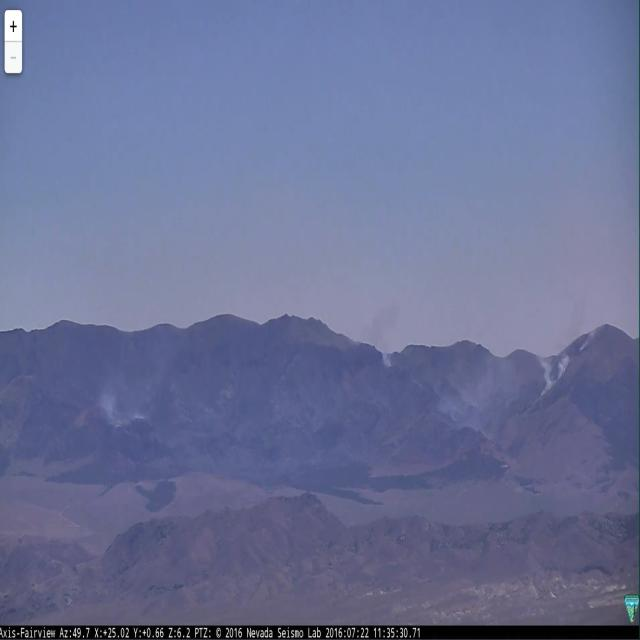smoke: (438, 348, 522, 434), (539, 326, 600, 401), (359, 302, 402, 370), (95, 384, 149, 430)
